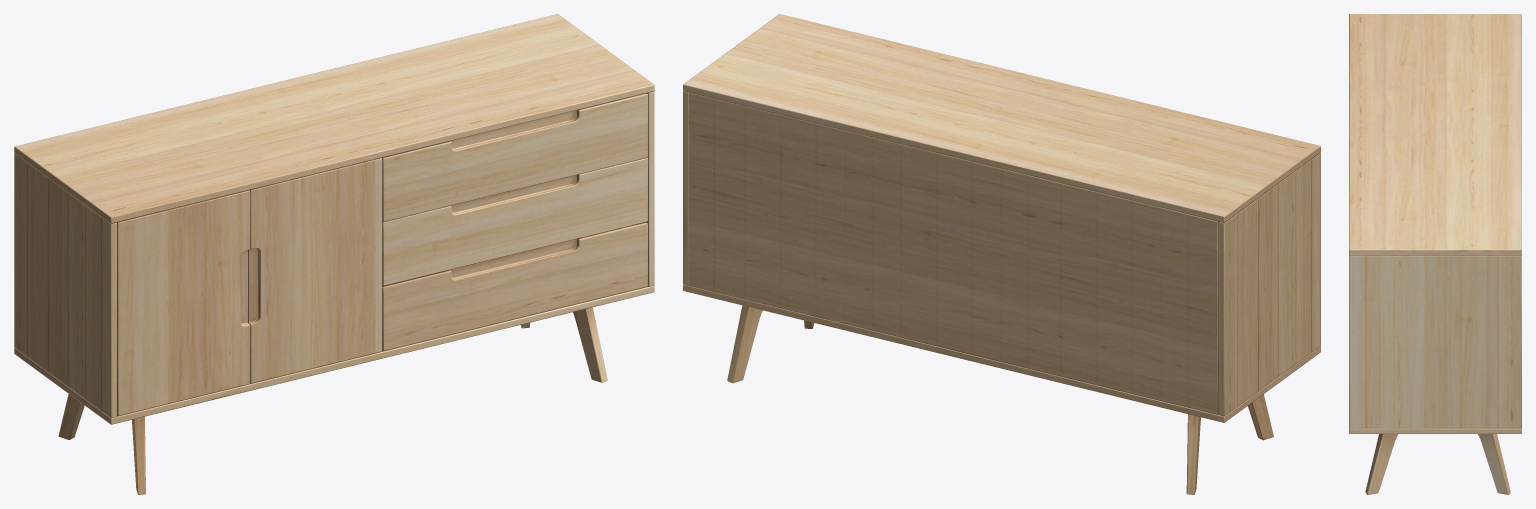
The model's file is jenson_sideboard_no_legs.glb.
3 renders of one model, left to right at view 1: azimuth 30°, elevation 25°; view 2: azimuth 150°, elevation 25°; view 3: azimuth 270°, elevation 25°, orthographic. The views are drawn at different scales.
Visible parts, largest first — view 1: DARK_STAIN_OAK; view 2: DARK_STAIN_OAK; view 3: DARK_STAIN_OAK.
Part boxes in pixels (box(x1,y1,x2,y2)): DARK_STAIN_OAK: box(14, 14, 654, 494); DARK_STAIN_OAK: box(683, 14, 1320, 494); DARK_STAIN_OAK: box(1349, 14, 1521, 494).
Size of what is drawn, in the model's own units: 155 by 80.23 by 48.
1 material, 1 textured.
